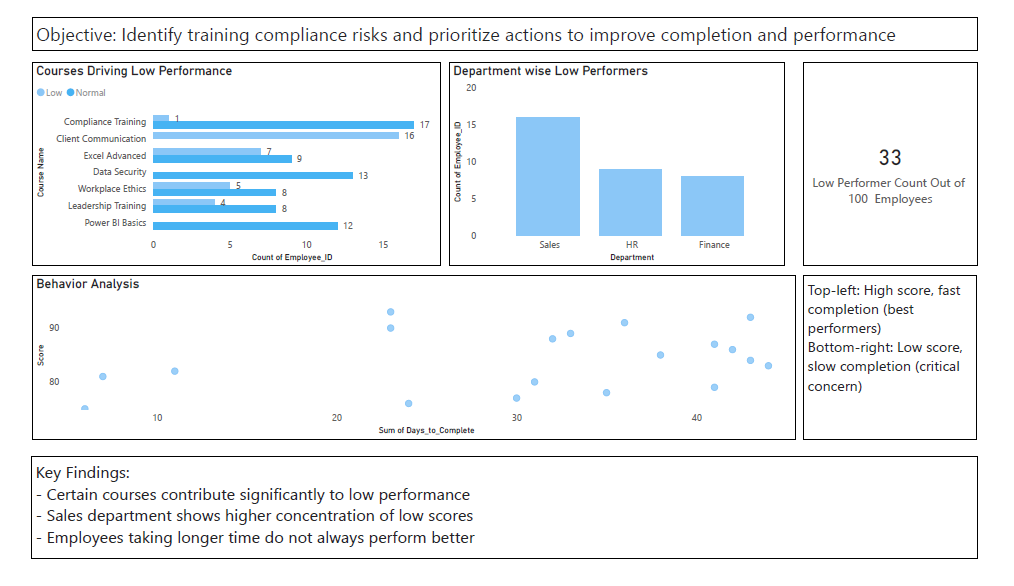

What the dashboard file says about the page in this screenshot:
{"tool":"powerbi","page":{"name":"Page Performance Analysis","canvas":[1280,720],"ordinal":1},"visuals":[{"type":"textbox","box":[27.5,10,1238.8,45],"z":0},{"type":"clusteredBarChart","title":"Courses Driving Low Performance","fields":{"Y":["Count(Table1.Employee_ID)"],"Category":["Table1.Course_Name"],"Series":["Table1.Low_Score_Flag"]},"box":[27.5,68.8,536.2,267.5],"z":1000},{"type":"columnChart","title":"Department wise Low Performers","fields":{"Category":["Table1.Department"],"Y":["CountNonNull(Table1.Employee_ID)"]},"box":[573.8,68.8,440,267.5],"z":2000},{"type":"scatterChart","title":"Behavior Analysis","fields":{"X":["Sum(Table1.Days_to_Complete)"],"Y":["Table1.Score"]},"box":[27.9,348.2,1000.7,214.5],"z":3000},{"type":"card","fields":{"Values":["Table1.Low_Performance_Count"]},"box":[1037.5,69.3,228.4,267],"z":4000},{"type":"textbox","box":[26.7,585,1240,135],"z":5000},{"type":"textbox","box":[1037.5,347.7,227.3,214.8],"z":6000}]}

Visuals, with their boxes in screenshot pixels (x1, y1, x2, y2), scaled from the page's 1280x720 canvas onto the 1014x586 screenshot:
textbox: [x1=22, y1=8, x2=1003, y2=45]
"Courses Driving Low Performance" clusteredBarChart: [x1=22, y1=56, x2=447, y2=274]
"Department wise Low Performers" columnChart: [x1=455, y1=56, x2=803, y2=274]
"Behavior Analysis" scatterChart: [x1=22, y1=283, x2=815, y2=458]
card - Table1.Low_Performance_Count: [x1=822, y1=56, x2=1003, y2=274]
textbox: [x1=21, y1=476, x2=1003, y2=585]
textbox: [x1=822, y1=283, x2=1002, y2=458]
